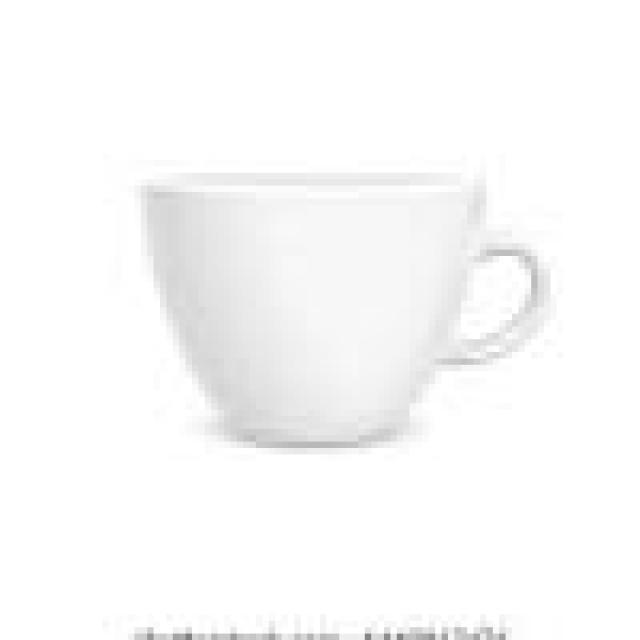taza: (92, 136, 560, 464)
